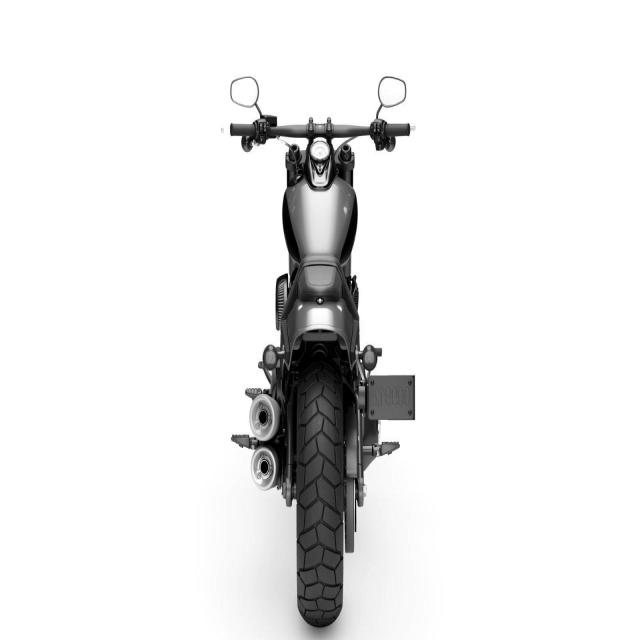Motorcycle: (230, 75, 416, 627)
